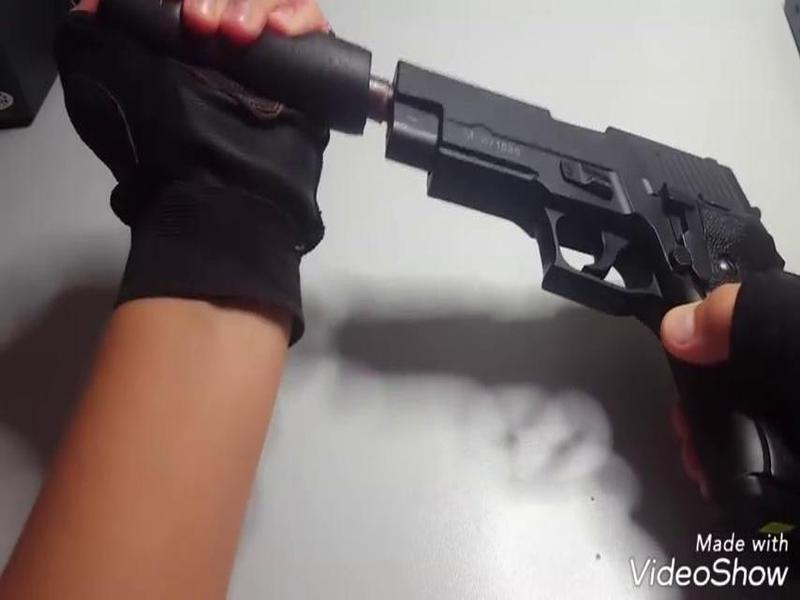Pistola: (381, 50, 800, 523)
